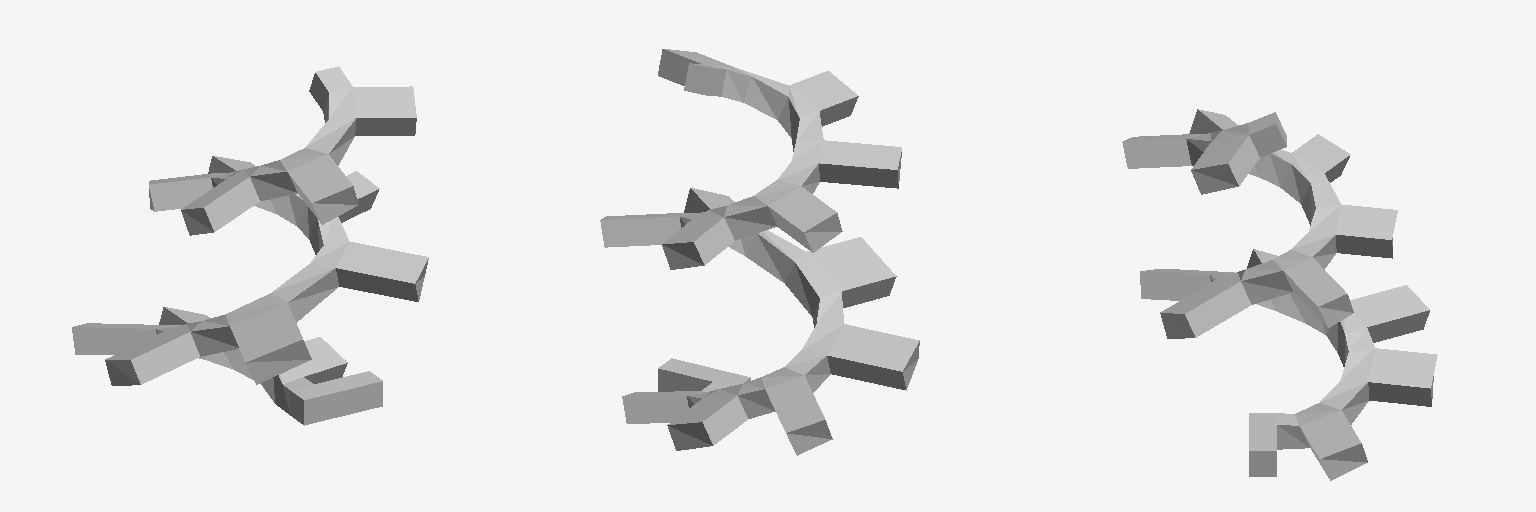
Rendered from crazyspiralthingy.obj.
3 renders of one model, left to right at view 1: azimuth 30°, elevation 25°; view 2: azimuth 150°, elevation 25°; view 3: azimuth 270°, elevation 25°, orthographic.
Visible parts, largest first — view 1: Cube; view 2: Cube; view 3: Cube.
Boxes of the visible parts, x1=… form: Cube: x1=72, y1=66, x2=428, y2=425; Cube: x1=600, y1=49, x2=919, y2=455; Cube: x1=1122, y1=109, x2=1437, y2=480.
Bounding box in the file's own units: 23.69 × 27.21 × 22.67.